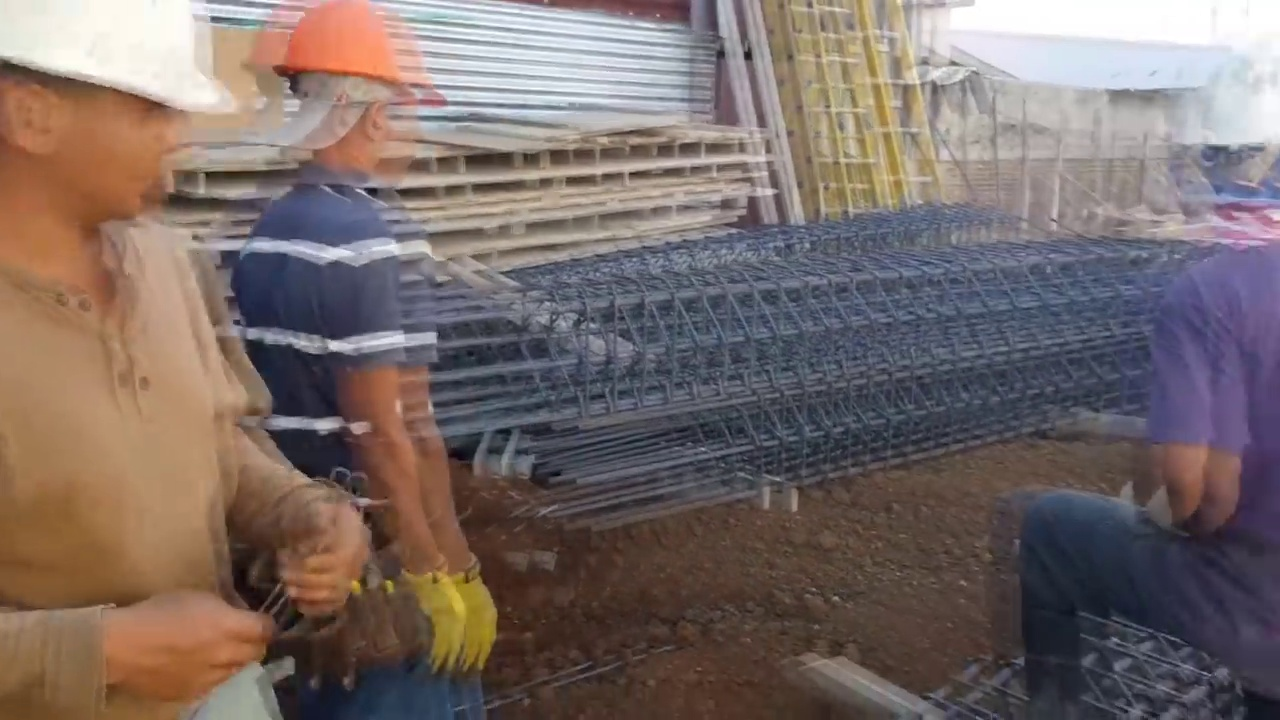helmet: (0, 2, 237, 128), (271, 12, 447, 123)
helmet-on: (4, 11, 230, 206), (256, 0, 432, 200)
person: (0, 24, 346, 707), (241, 5, 490, 713), (1017, 57, 1280, 718)
